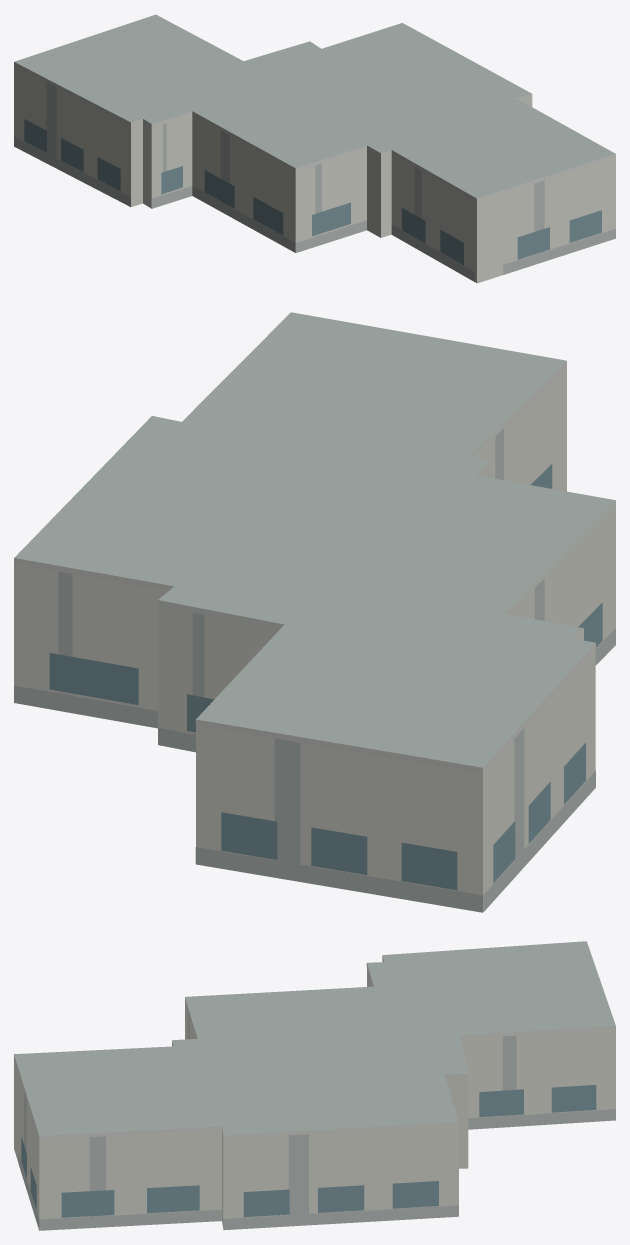
Rendered from survey-upis-32920393.glb.
The picture shows the model from 3 angles, top to bottom: view 1: azimuth 30°, elevation 25°; view 2: azimuth 150°, elevation 25°; view 3: azimuth 270°, elevation 25°; orthographic projection. The views are drawn at different scales.
Parts seen in each view (by area): view 1: survey-upis-32920393.tmp; view 2: survey-upis-32920393.tmp; view 3: survey-upis-32920393.tmp.
Part boxes in pixels (left/top/right/bottom): survey-upis-32920393.tmp: left=14, top=14, right=615, bottom=283; survey-upis-32920393.tmp: left=14, top=312, right=615, bottom=912; survey-upis-32920393.tmp: left=14, top=941, right=615, bottom=1230.
Size of the model in its own units: 26.91 by 6.1 by 35.12.
